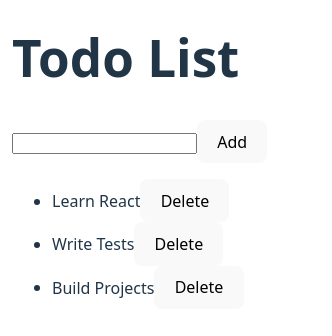
TodoList Component › adds a new todo
This screenshot has width=332, height=336.
Type "New Todo" into the field with test id "todo-input". click: coordinates (104, 143)
box: [12,133,197,154]
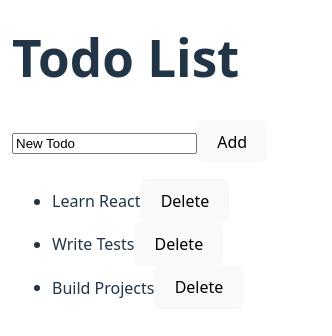
Click the button "Add". click: coordinates (232, 142)
box: [197,120,267,163]
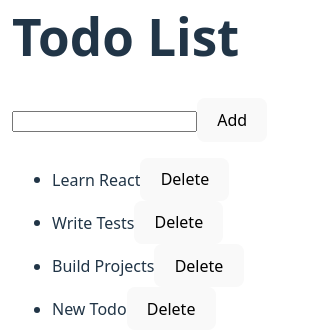
Expected: the list item "New Todo" is shown, [52,298,127,320]
